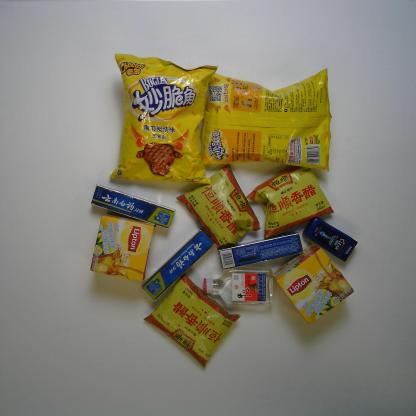Alcohol: (200, 269, 272, 308)
Instant Drink: (275, 246, 356, 320), (86, 213, 154, 282)
Personal Hygiene: (138, 230, 209, 304), (89, 187, 177, 232), (214, 231, 304, 268), (305, 218, 357, 254)
Puffed Food: (110, 52, 212, 189), (201, 67, 335, 171)
Seasoner: (146, 273, 242, 365), (179, 161, 261, 250), (248, 167, 332, 237)
